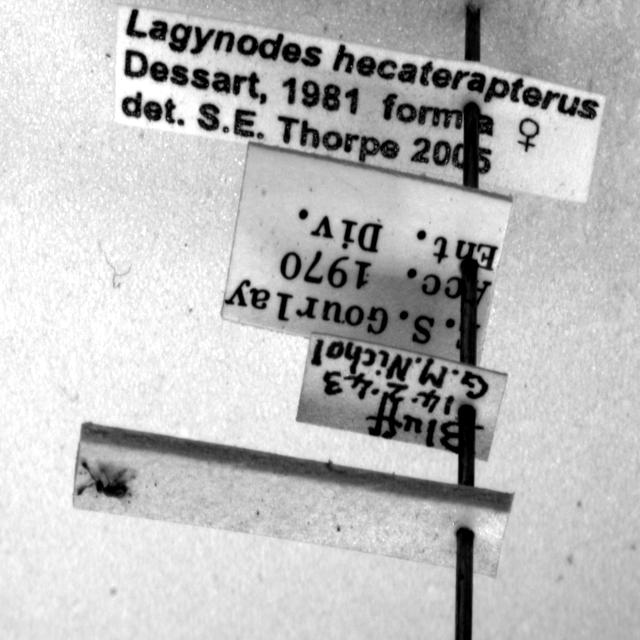hand_label: (296, 334, 506, 461)
typed_label: (115, 6, 605, 202), (221, 142, 511, 360)
